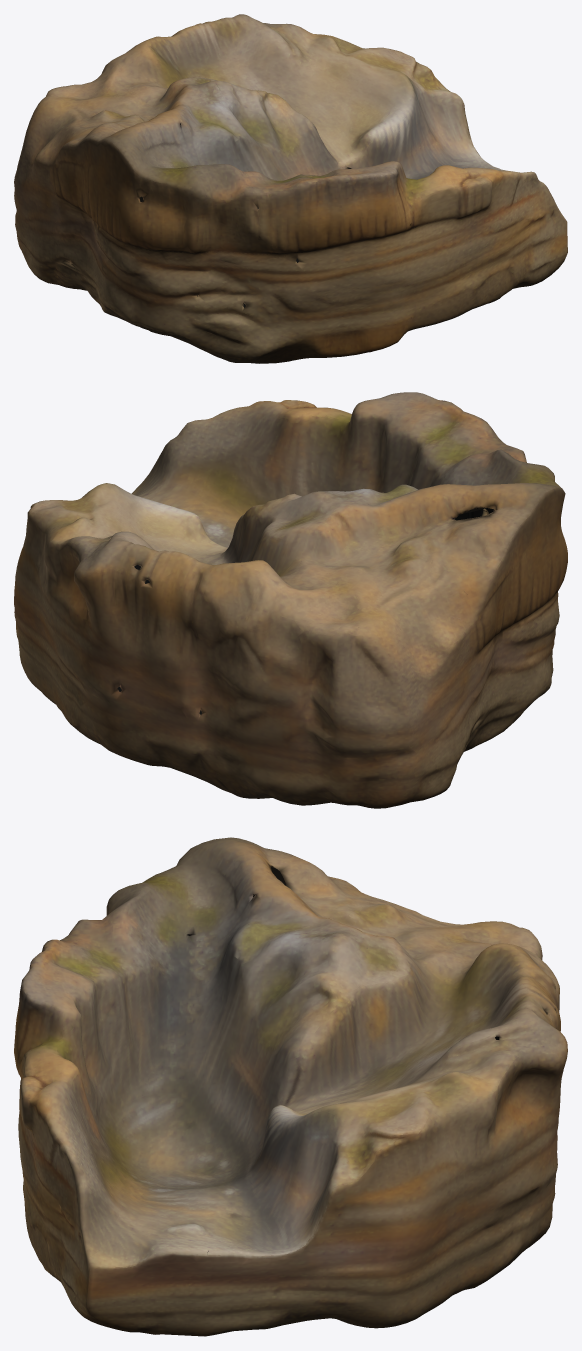
The picture shows the model from 3 angles, top to bottom: view 1: azimuth 30°, elevation 25°; view 2: azimuth 150°, elevation 25°; view 3: azimuth 270°, elevation 25°; orthographic projection. The views are drawn at different scales.
Parts seen in each view (by area): view 1: world; view 2: world; view 3: world.
Part boxes in pixels (x1,y1,x2,y2): world: [14, 14, 567, 363]; world: [14, 392, 567, 808]; world: [14, 837, 567, 1336].
Size of the model in its own units: 30 by 15.6 by 27.44.
1 material, 1 textured.
